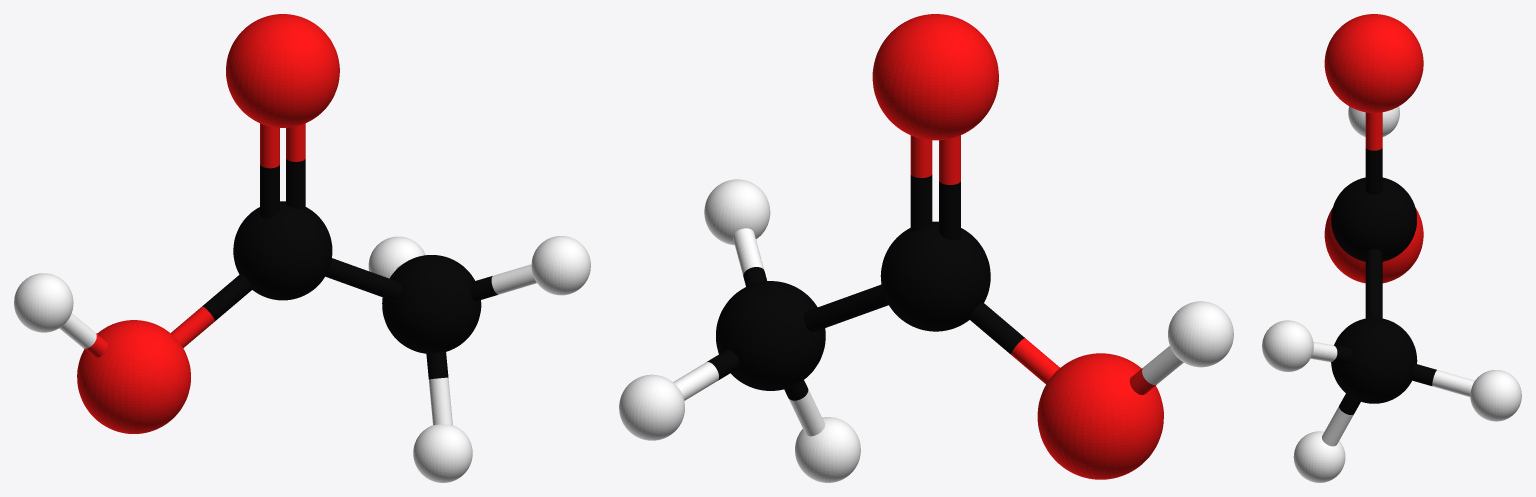
The model's file is acido-etanoico.glb.
3 renders of one model, left to right at view 1: azimuth 30°, elevation 25°; view 2: azimuth 150°, elevation 25°; view 3: azimuth 270°, elevation 25°, orthographic. The views are drawn at different scales.
Visible parts, largest first — view 1: Esfera_UV.004, Esfera_UV.002_Esfera_UV.000, Esfera_UV.001, Esfera_UV.002, Esfera_UV.006, Esfera_UV.005, Esfera_UV.000, Cilindro.002, Cilindro.003, Cilindro.000, Cilindro.001, Cilindro.003_Cilindro.000 (+3 smaller); view 2: Esfera_UV.004, Esfera_UV.002_Esfera_UV.000, Esfera_UV.001, Esfera_UV.002, Esfera_UV.006, Esfera_UV.003, Esfera_UV.000, Esfera_UV.005, Cilindro.002, Cilindro.003, Cilindro.000, Cilindro.001 (+4 smaller); view 3: Esfera_UV.004, Esfera_UV.002, Esfera_UV.001, Esfera_UV.002_Esfera_UV.000, Esfera_UV.005, Esfera_UV.003, Esfera_UV.000, Cilindro.000, Cilindro.001, Cilindro.006, Cilindro.003_Cilindro.000, Esfera_UV.006 (+1 smaller).
Boxes of the visible parts, bbox=[...] form: Esfera_UV.004: bbox=[226, 14, 339, 127]; Esfera_UV.002_Esfera_UV.000: bbox=[77, 320, 190, 433]; Esfera_UV.001: bbox=[233, 201, 332, 300]; Esfera_UV.002: bbox=[382, 255, 481, 353]; Esfera_UV.006: bbox=[14, 273, 73, 332]; Esfera_UV.005: bbox=[531, 236, 590, 295]; Esfera_UV.000: bbox=[413, 424, 472, 482]; Cilindro.002: bbox=[171, 274, 252, 347]; Cilindro.003: bbox=[260, 123, 279, 218]; Cilindro.000: bbox=[286, 123, 305, 209]; Cilindro.001: bbox=[325, 258, 401, 300]; Cilindro.003_Cilindro.000: bbox=[426, 352, 452, 424]; Esfera_UV.004: bbox=[872, 14, 998, 140]; Esfera_UV.002_Esfera_UV.000: bbox=[1037, 353, 1163, 479]; Esfera_UV.001: bbox=[880, 221, 990, 331]; Esfera_UV.002: bbox=[716, 281, 825, 390]; Esfera_UV.006: bbox=[1168, 301, 1233, 367]; Esfera_UV.003: bbox=[619, 374, 684, 440]; Esfera_UV.000: bbox=[795, 417, 860, 482]; Esfera_UV.005: bbox=[704, 179, 770, 245]; Cilindro.002: bbox=[969, 302, 1059, 384]; Cilindro.003: bbox=[939, 135, 960, 240]; Cilindro.000: bbox=[910, 135, 932, 230]; Cilindro.001: bbox=[804, 284, 888, 331]; Esfera_UV.004: bbox=[1324, 14, 1423, 112]; Esfera_UV.002: bbox=[1331, 317, 1417, 403]; Esfera_UV.001: bbox=[1331, 177, 1416, 261]; Esfera_UV.002_Esfera_UV.000: bbox=[1324, 207, 1423, 283]; Esfera_UV.005: bbox=[1262, 320, 1313, 371]; Esfera_UV.003: bbox=[1470, 370, 1521, 421]; Esfera_UV.000: bbox=[1293, 431, 1345, 482]; Cilindro.000: bbox=[1365, 112, 1382, 194]; Cilindro.001: bbox=[1365, 249, 1382, 318]; Cilindro.006: bbox=[1411, 364, 1474, 396]; Cilindro.003_Cilindro.000: bbox=[1322, 393, 1360, 446]; Esfera_UV.006: bbox=[1348, 106, 1399, 136].
Size of the model in its own units: 12.09 by 10.44 by 6.03.
